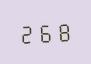eight: (55, 19, 72, 42)
six: (37, 20, 54, 43)
two: (18, 21, 35, 44)
